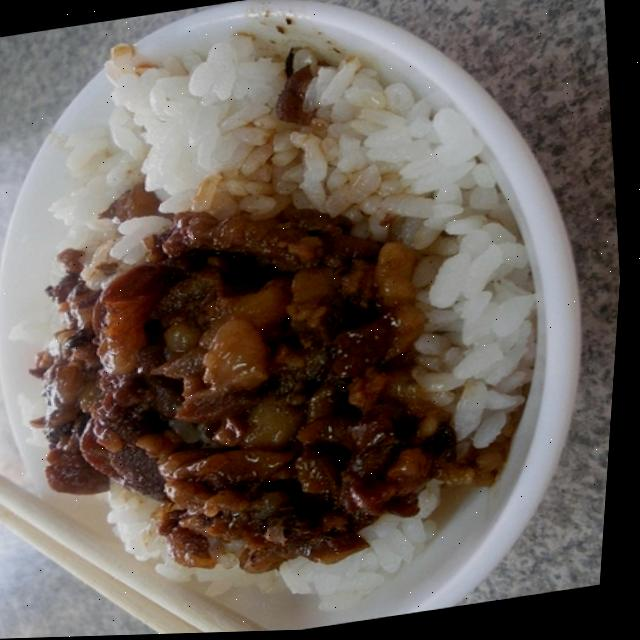猪肉菜式: (0, 4, 588, 640)
